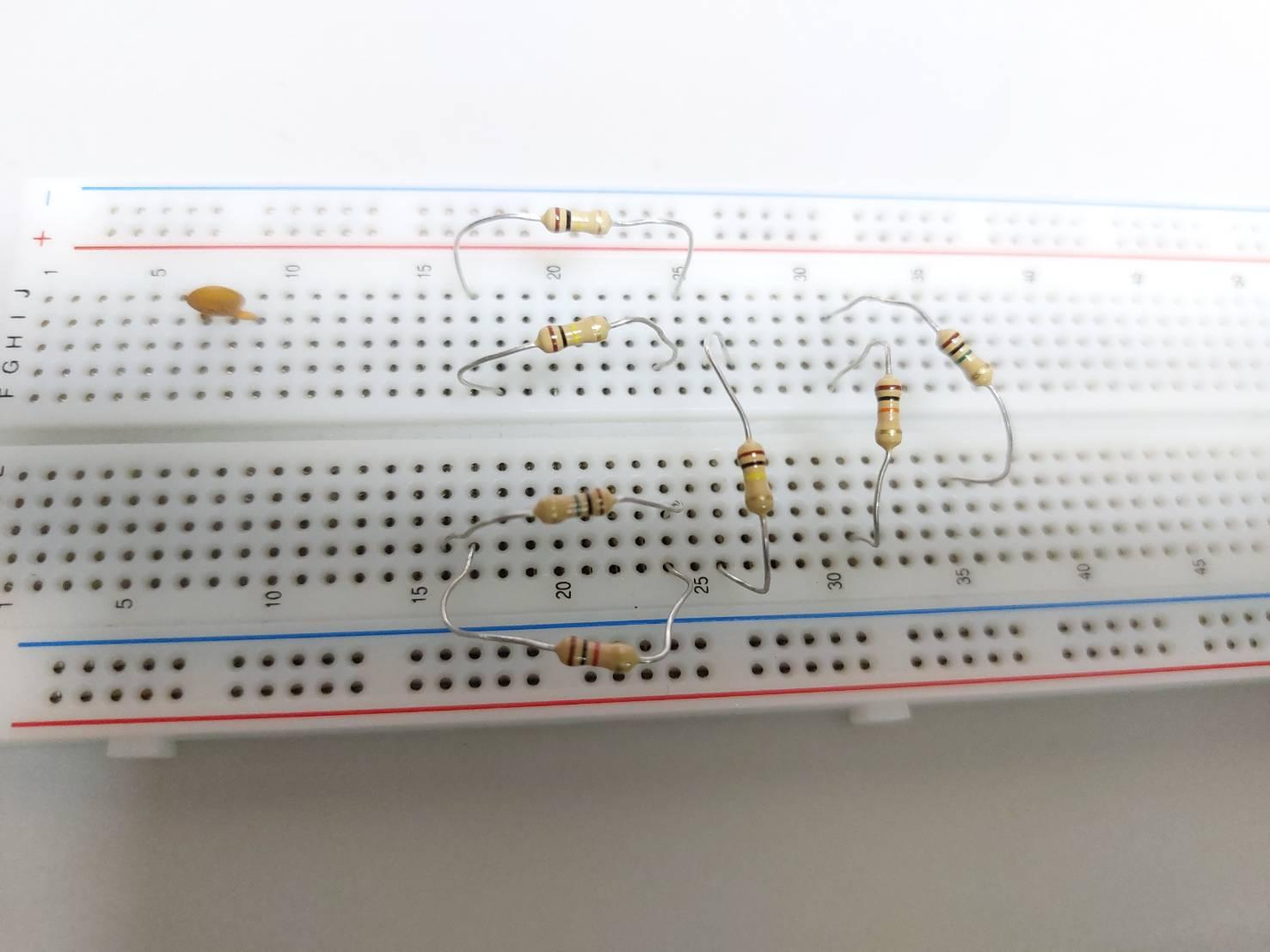resistor: (733, 441, 783, 519), (936, 326, 991, 390), (555, 639, 638, 674), (534, 312, 610, 350), (535, 488, 618, 521), (542, 202, 612, 235), (876, 376, 904, 447)
